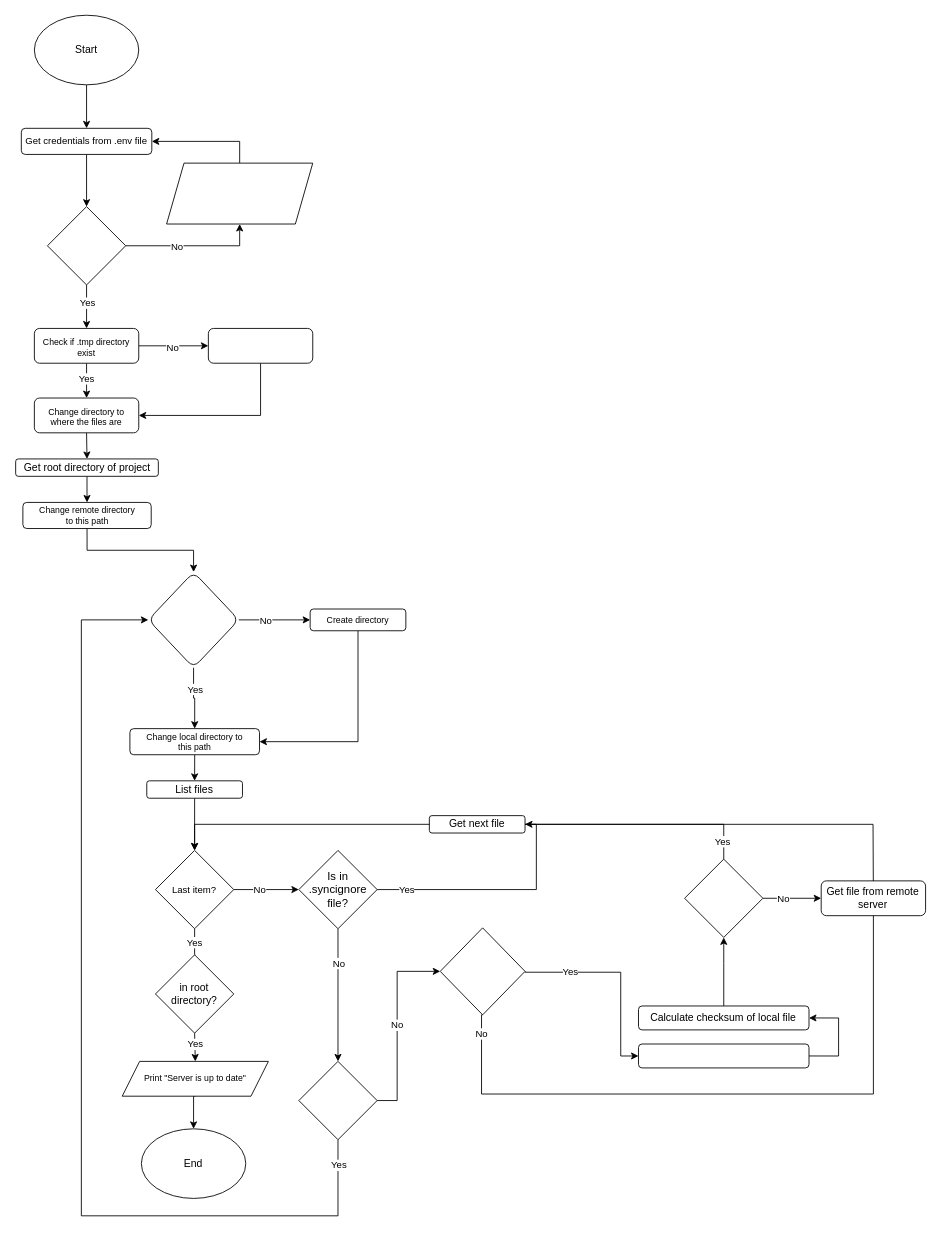
This 940x1238 diagram has some shape labels left out. The shapes that lost their labels are listed below. From the top down, each one's centre as x and y in pixels, then its label:
point (239, 193): Print "Authantication failed. Please check the credentials in .env file
point (86, 245): Try to connect
point (260, 345): Create .tmp directory on local server
point (193, 619): Check directory is exist in local server?
point (723, 897): Check are they equal?
point (482, 971): Check file exist at local?
point (723, 1055): Calculate checksum of remote file
point (337, 1100): Is directory?
